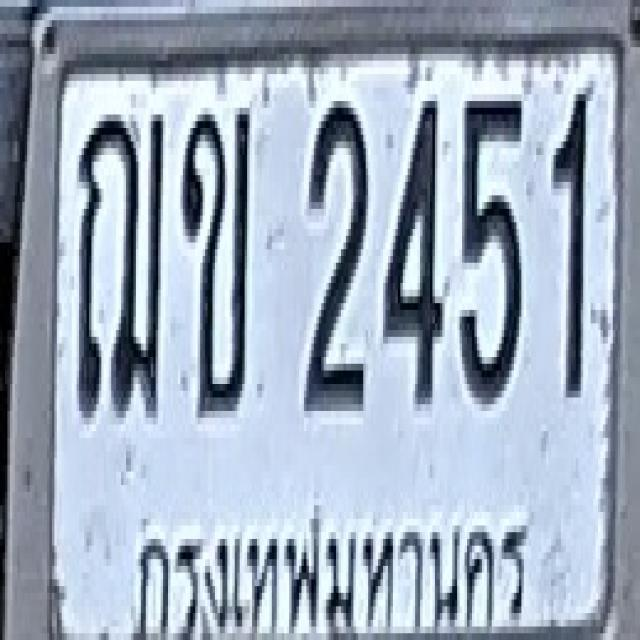-: (76, 101, 164, 418), (180, 101, 250, 411)
1: (551, 84, 588, 394)
2: (304, 94, 368, 404)
4: (383, 91, 442, 401)
5: (459, 91, 522, 401)
BKK: (125, 482, 532, 640)
